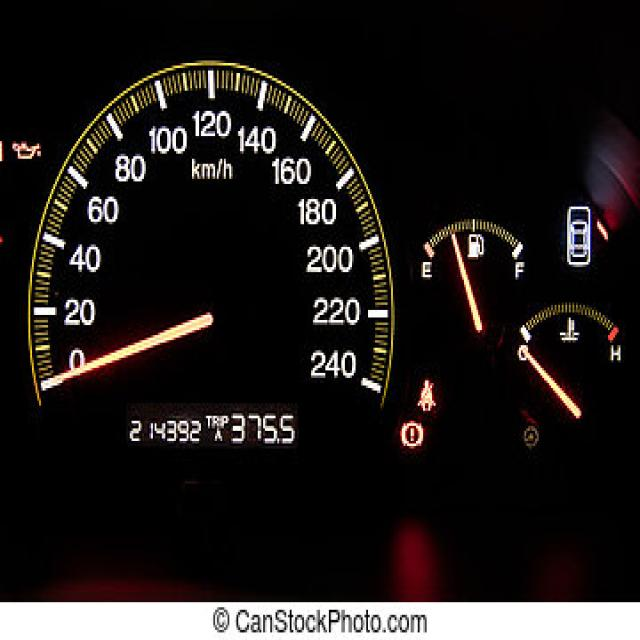Braking System Issue: (398, 416, 427, 451)
